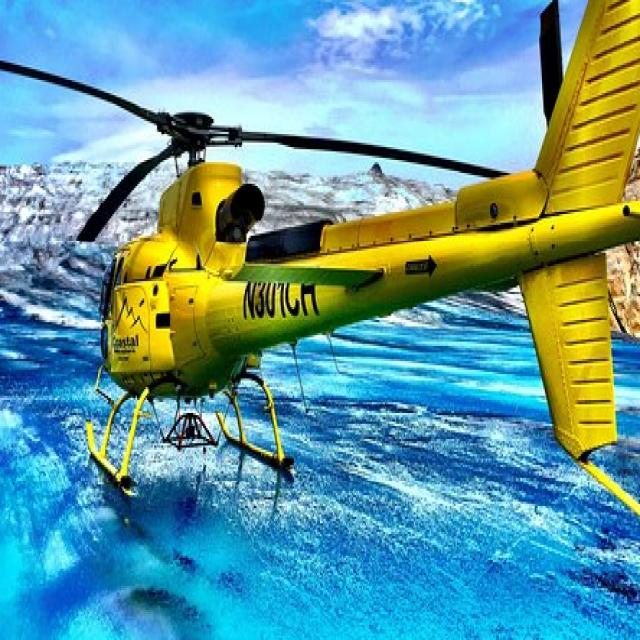helicopter: (1, 1, 640, 535)
